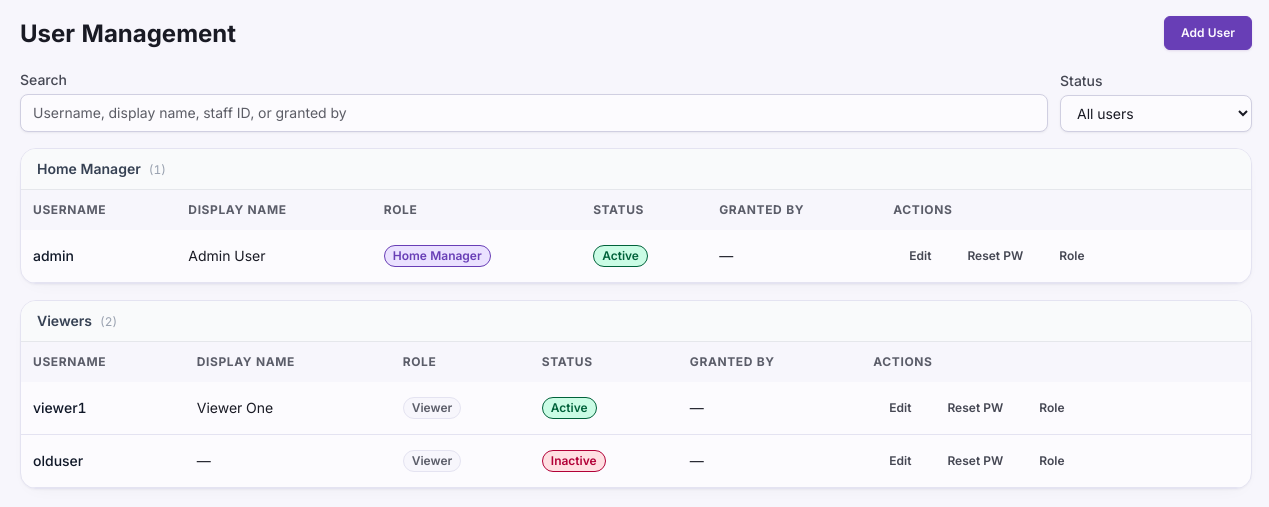
Test: UserManagement › filters users by search text
The width and height of the screenshot is (1269, 507).
expect the text "admin" is shown: met, box [21,230,176,282]
Type "viewer" into the field with placeholder "Username, display name, staff ID, or granted by" at (534, 113), box [20,94,1048,132]
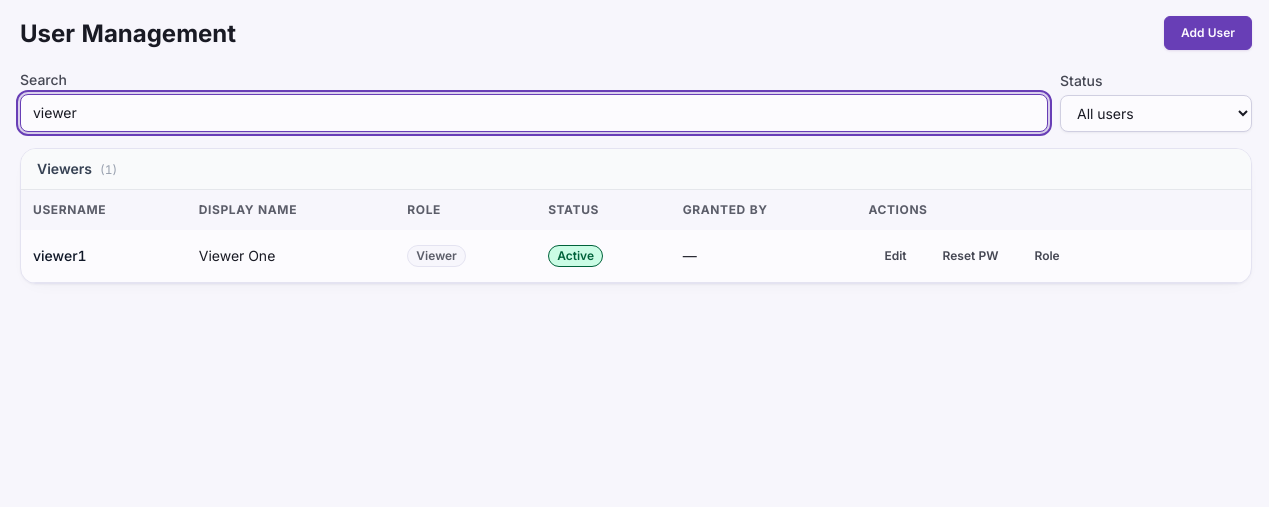
expect the text "viewer1" is shown: met, box [21,230,187,282]
expect the text "admin" is gone: met
